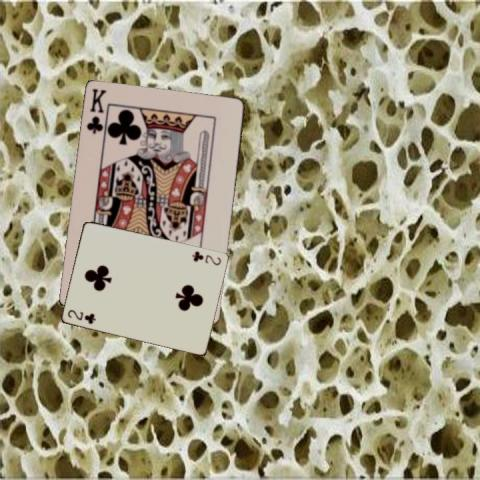2c: (189, 248, 223, 267), (65, 307, 97, 325)
Kc: (84, 86, 108, 135)
